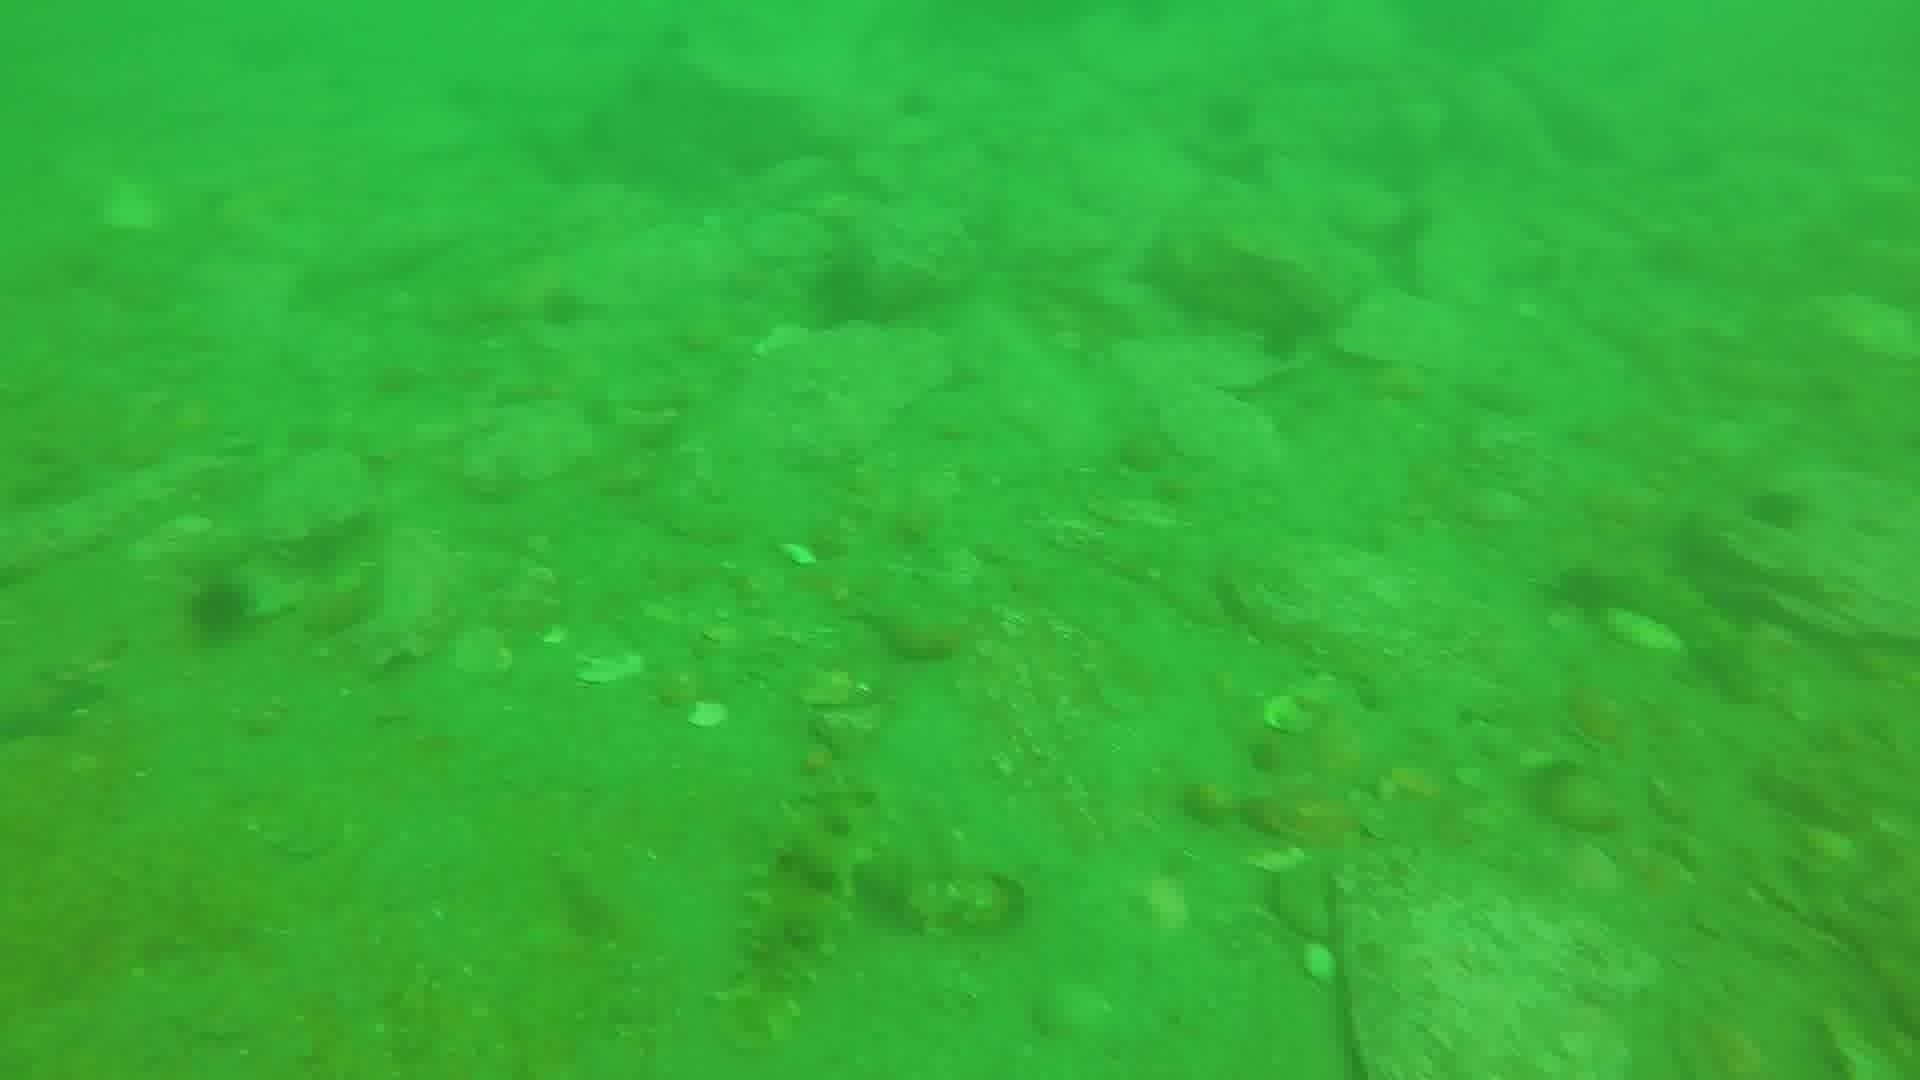echinus: (178, 572, 258, 647), (1741, 481, 1813, 538)
holothurian: (713, 777, 895, 1042)
